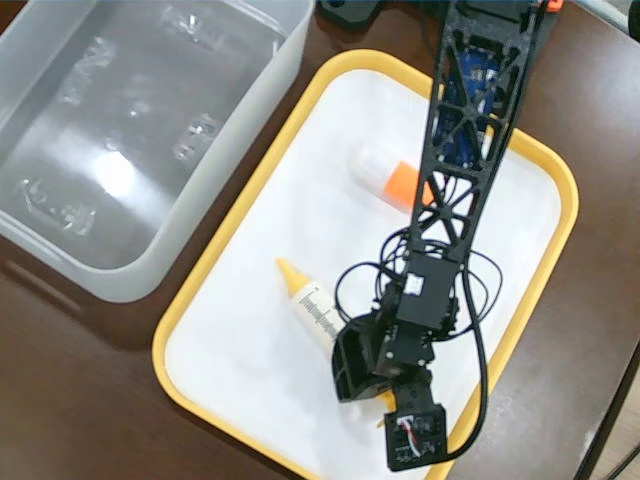pill: (342, 138, 422, 214)
